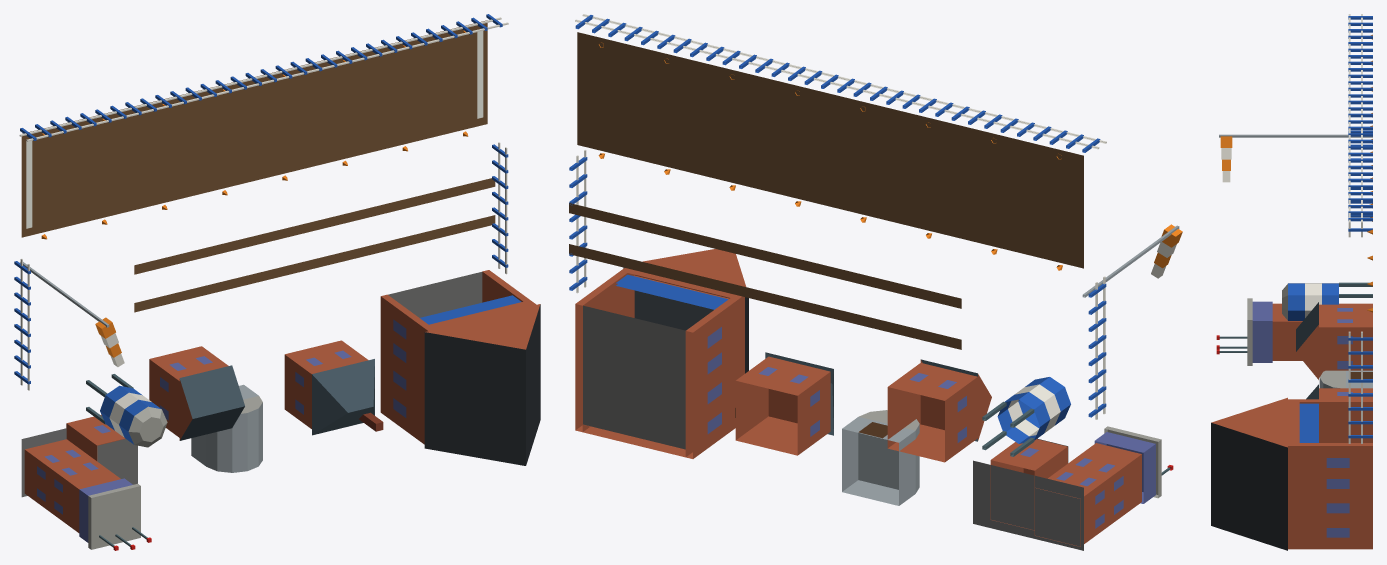
3 views of the same model, side by side, from view 1: azimuth 30°, elevation 25°; view 2: azimuth 150°, elevation 25°; view 3: azimuth 270°, elevation 25° (orthographic). The views are drawn at different scales.
Visible parts, largest first — view 1: t3_0_g43, t0_0_g35, t1_2_g41, t2_2_g41, t0_2_g42, t3_2_g40, t1_0_g34, t2_0_g33, t3_1_g36, t1_1_g38, t2_1_g37, t0_1_g39; view 2: t3_0_g43, t0_0_g35, t1_2_g41, t2_2_g41, t0_2_g42, t3_2_g40, t1_0_g34, t2_0_g33, t3_1_g36, t1_1_g38, t2_1_g37, t0_1_g39; view 3: t3_0_g43, t1_0_g34, t0_0_g35, t0_1_g39, t3_1_g36, t2_2_g41, t3_2_g40, t1_2_g41, t0_2_g42, t2_0_g33.
Boxes of the visible parts, x1,y1,x2,y2 form: t3_0_g43: (380,270,540,465); t0_0_g35: (21,374,167,550); t1_2_g41: (134,73,267,209); t2_2_g41: (254,43,388,180); t0_2_g42: (19,102,147,239); t3_2_g40: (375,14,508,151); t1_0_g34: (149,346,262,472); t2_0_g33: (284,340,383,435); t3_1_g36: (375,142,508,274); t1_1_g38: (134,236,254,312); t2_1_g37: (254,206,374,282); t0_1_g39: (14,258,124,390); t3_0_g43: (575,249,748,458); t0_0_g35: (973,377,1173,550); t1_2_g41: (830,78,975,238); t2_2_g41: (700,46,844,206); t0_2_g42: (961,110,1106,270); t3_2_g40: (575,14,713,174); t1_0_g34: (842,359,991,505); t2_0_g33: (735,352,833,455); t3_1_g36: (569,150,699,293); t1_1_g38: (830,267,961,349); t2_1_g37: (700,235,830,317); t0_1_g39: (1082,224,1182,419); t3_0_g43: (1211,397,1372,550); t1_0_g34: (1296,302,1372,388); t0_0_g35: (1216,282,1372,365); t0_1_g39: (1219,130,1372,237); t3_1_g36: (1348,331,1372,443); t2_2_g41: (1348,118,1372,260); t3_2_g40: (1348,170,1372,312); t1_2_g41: (1348,66,1372,204); t0_2_g42: (1348,14,1372,152); t2_0_g33: (1306,384,1372,399).
Bounding box in the file's own units: 64 × 47.32 × 21.
